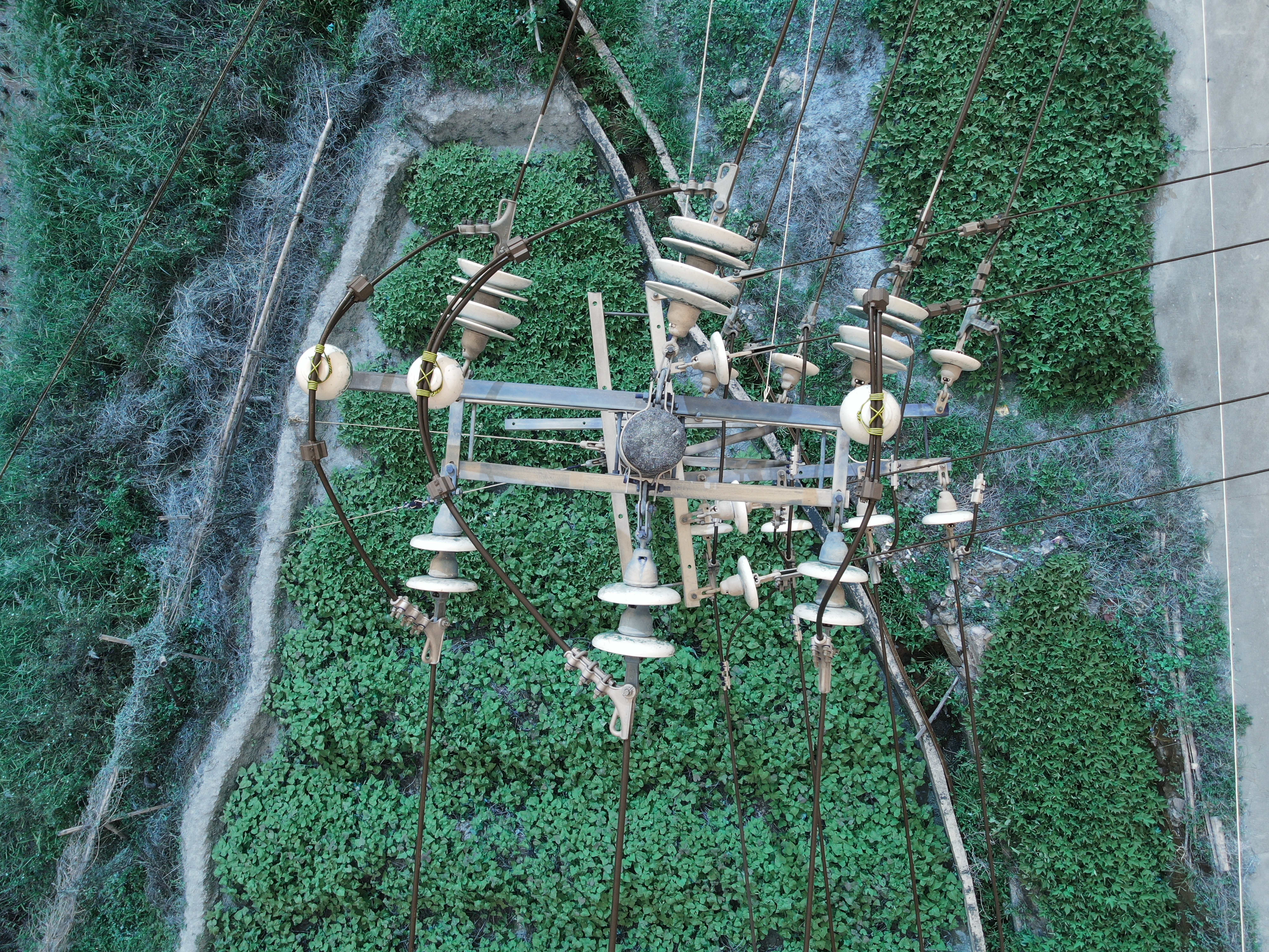severe_soiling_no_discharge_whole: (643, 207, 755, 338), (591, 548, 685, 660), (828, 284, 931, 385), (789, 531, 871, 630), (402, 503, 486, 595), (293, 343, 358, 402), (407, 351, 465, 410)
